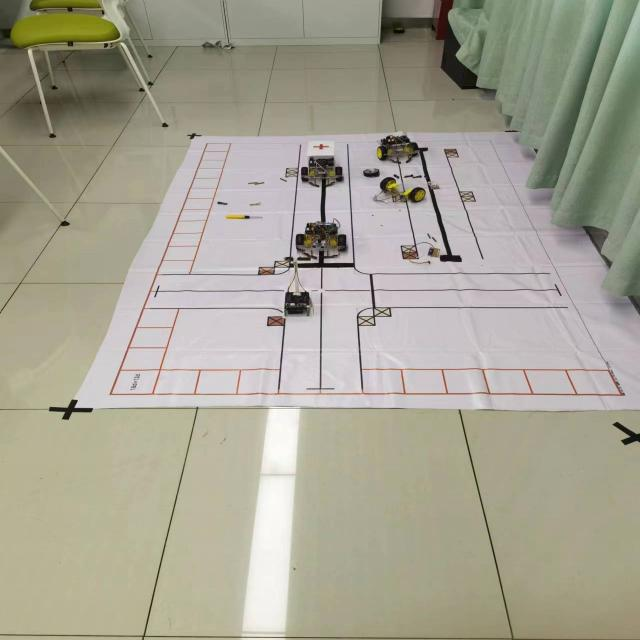RedCross: (312, 143, 330, 151)
